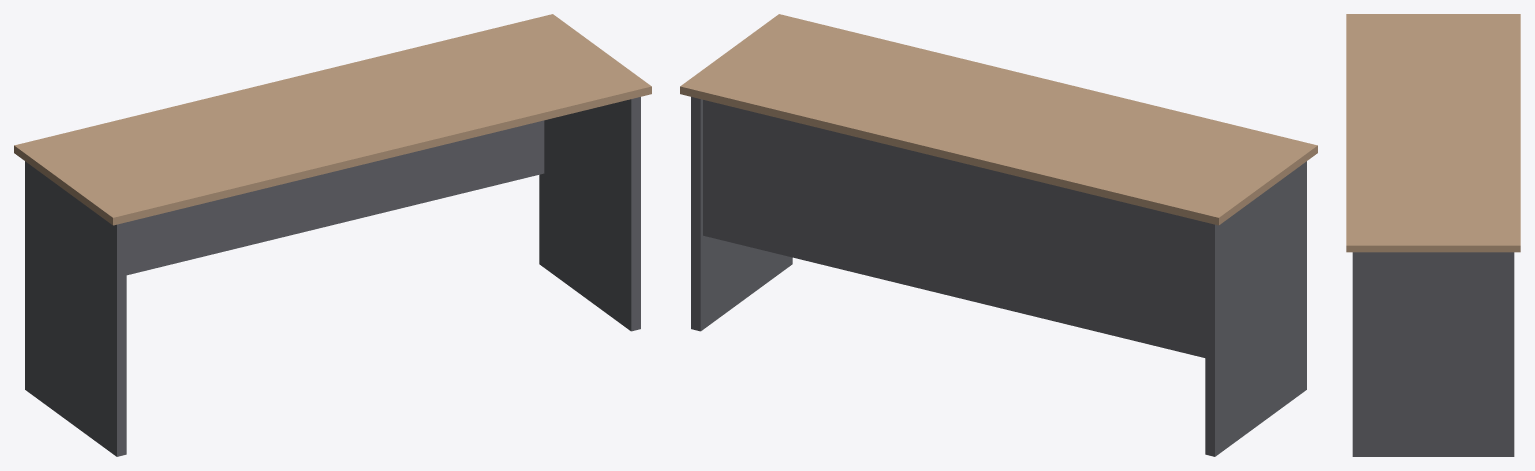
The model's file is meja-azka.glb.
The picture shows the model from 3 angles, left to right: view 1: azimuth 30°, elevation 25°; view 2: azimuth 150°, elevation 25°; view 3: azimuth 270°, elevation 25°; orthographic projection. The views are drawn at different scales.
Parts seen in each view (by area): view 1: Meja_Top, Kaki_Kiri, Panel_Belakang, Kaki_Kanan; view 2: Panel_Belakang, Meja_Top, Kaki_Kiri, Kaki_Kanan; view 3: Meja_Top, Kaki_Kanan.
Boxes of the visible parts, <box> form: Meja_Top: <box>14,14,651,225</box>; Kaki_Kiri: <box>25,161,126,456</box>; Panel_Belakang: <box>126,120,544,275</box>; Kaki_Kanan: <box>539,97,640,331</box>; Panel_Belakang: <box>703,100,1205,357</box>; Meja_Top: <box>680,14,1317,225</box>; Kaki_Kiri: <box>1205,161,1306,456</box>; Kaki_Kanan: <box>691,97,792,331</box>; Meja_Top: <box>1346,14,1520,252</box>; Kaki_Kanan: <box>1352,252,1514,456</box>.
Size of the model in its own units: 2.2 by 0.95 by 0.7.
